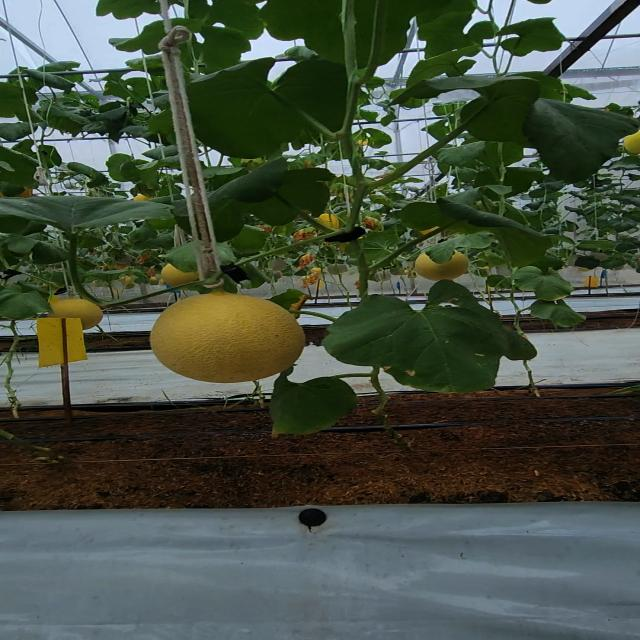Melon: (148, 288, 310, 384)
